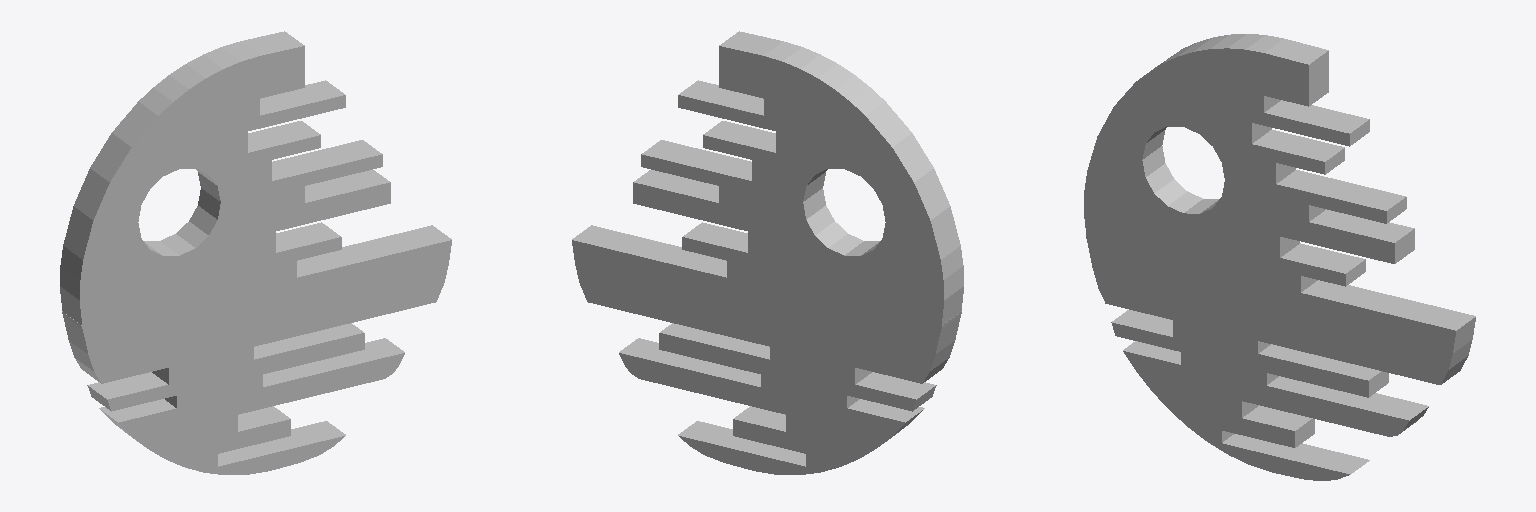
File: death_star.obj
3 views of the same model, side by side, from view 1: azimuth 30°, elevation 25°; view 2: azimuth 150°, elevation 25°; view 3: azimuth 330°, elevation 25° (orthographic).
Visible parts, largest first — view 1: death_star:Mesh; view 2: death_star:Mesh; view 3: death_star:Mesh.
Part boxes in pixels (left/top/right/bottom): death_star:Mesh: left=60, top=31, right=451, bottom=474; death_star:Mesh: left=572, top=31, right=963, bottom=474; death_star:Mesh: left=1084, top=34, right=1475, bottom=480.
Bounding box in the file's own units: 35.92 × 38.44 × 3.33.